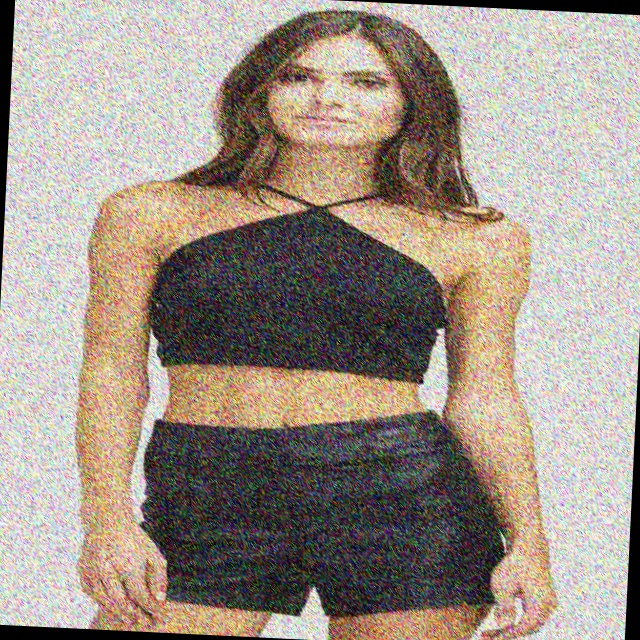Crop_Top: (148, 271, 450, 438)
Shorts: (82, 391, 518, 640)
Sleeveless: (450, 198, 536, 271), (96, 177, 173, 233)
low_neckline: (149, 168, 451, 376)
